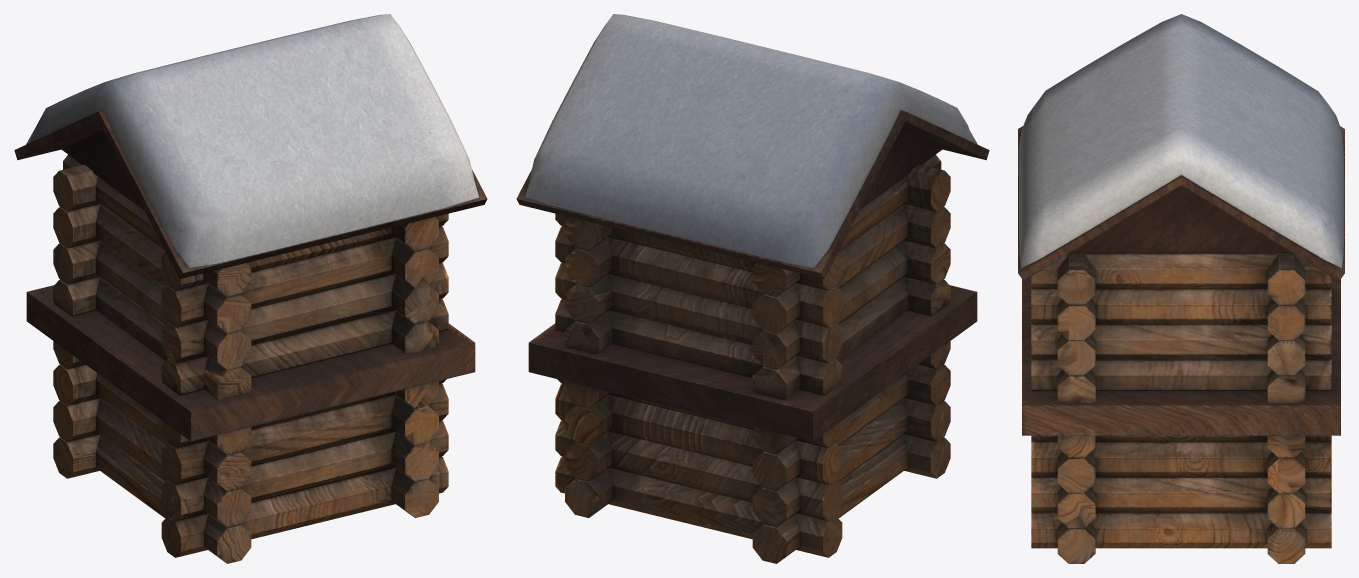
File: track5Building2.glb
3 renders of one model, left to right at view 1: azimuth 30°, elevation 25°; view 2: azimuth 150°, elevation 25°; view 3: azimuth 270°, elevation 25°, orthographic. The views are drawn at different scales.
Visible parts, largest first — view 1: snow_roof.003; view 2: snow_roof.003; view 3: snow_roof.003.
Part boxes in pixels (x1,y1,x2,y2): snow_roof.003: (14, 14, 487, 563); snow_roof.003: (516, 14, 989, 563); snow_roof.003: (1018, 14, 1344, 563).
Bounding box in the file's own units: 3.26 × 4.46 × 3.11.
Materials: 1 (1 with a texture image).
